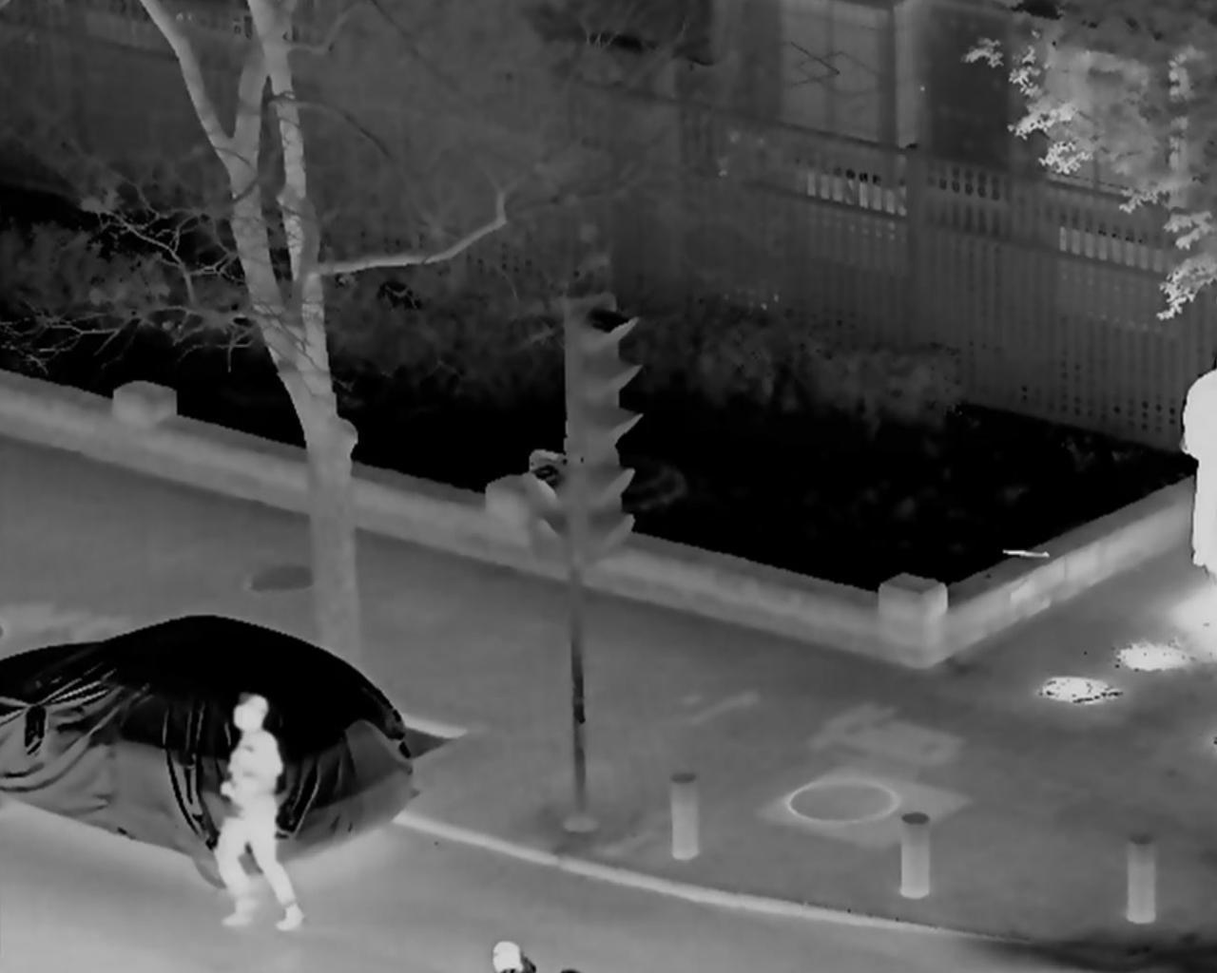person: (203, 696, 310, 931), (1186, 361, 1217, 570)
